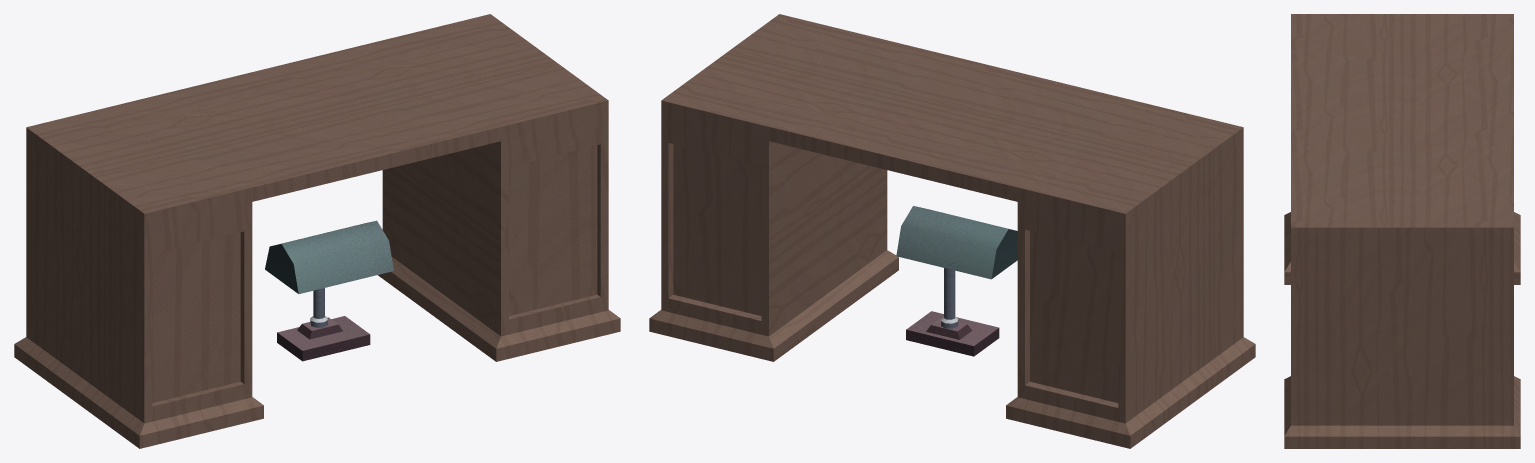
File: DeskAndLamp.fbx
The picture shows the model from 3 angles, left to right: view 1: azimuth 30°, elevation 25°; view 2: azimuth 150°, elevation 25°; view 3: azimuth 270°, elevation 25°; orthographic projection. The views are drawn at different scales.
Parts seen in each view (by area): view 1: Desk, Lamp; view 2: Desk, Lamp; view 3: Desk.
Boxes of the visible parts, left/top/right/bottom form: Desk: left=14, top=14, right=620, bottom=448; Lamp: left=265, top=220, right=393, bottom=361; Desk: left=649, top=14, right=1255, bottom=448; Lamp: left=896, top=206, right=1017, bottom=356; Desk: left=1284, top=14, right=1520, bottom=448.
Bounding box in the file's own units: 360 × 165 × 163.
